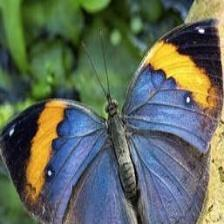butterfly: (0, 20, 224, 224)
